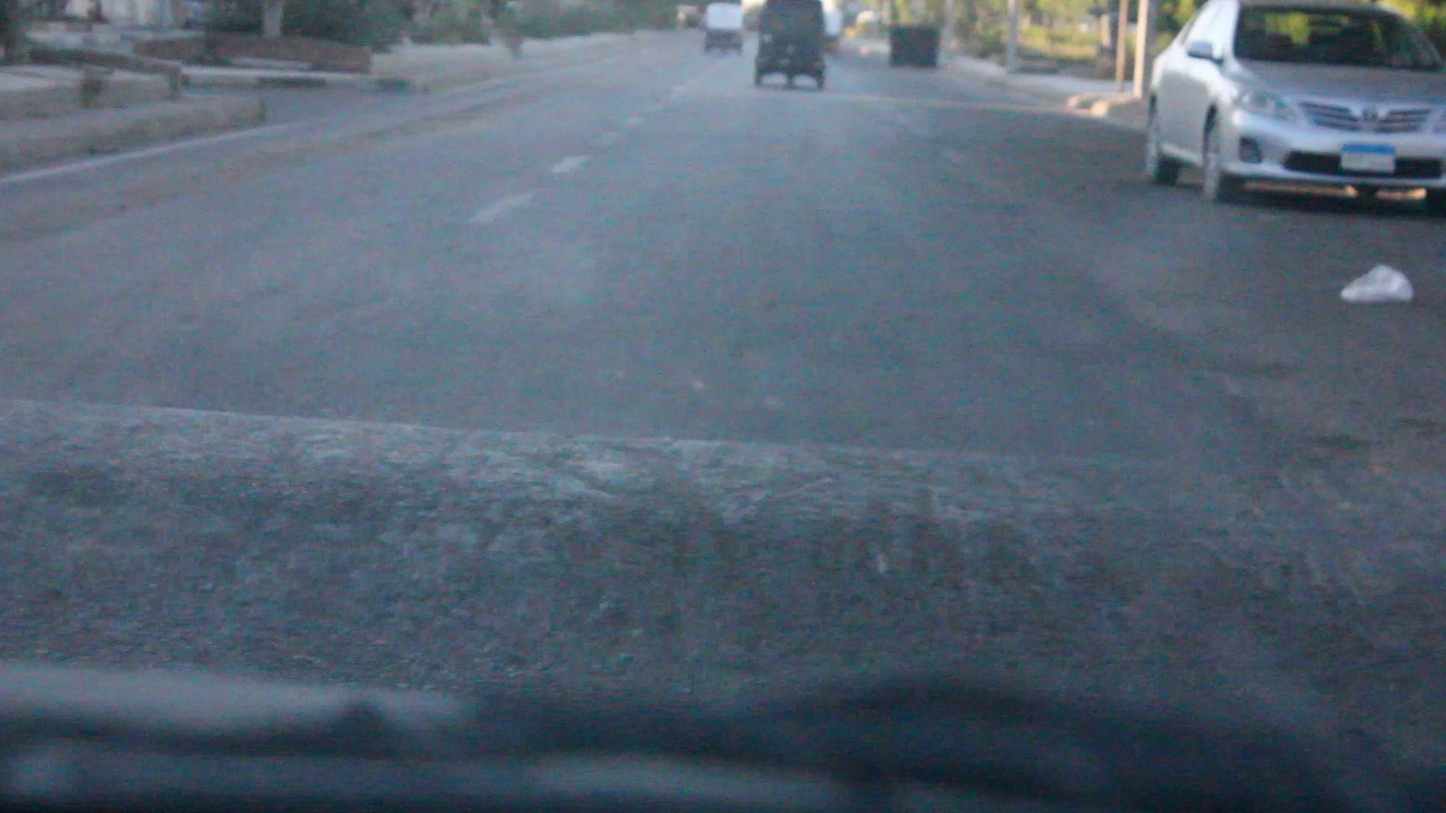Bump: (0, 395, 1445, 780)
